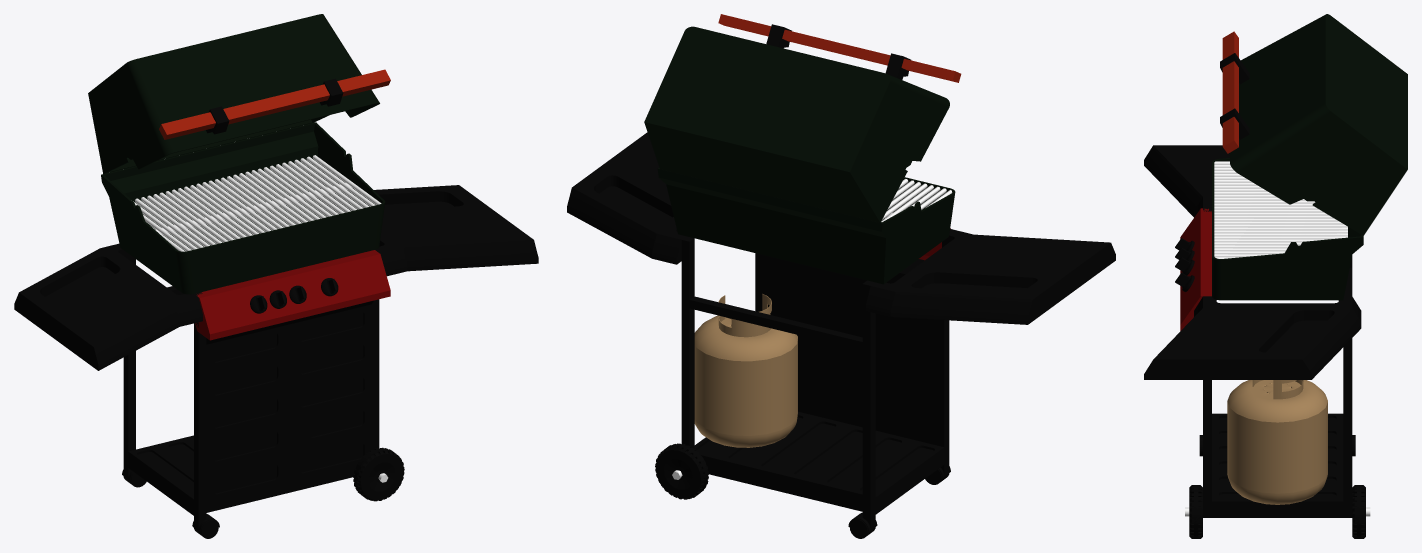
The model's file is barbacoa.FBX.
3 views of the same model, side by side, from view 1: azimuth 30°, elevation 25°; view 2: azimuth 150°, elevation 25°; view 3: azimuth 270°, elevation 25° (orthographic). The views are drawn at different scales.
Visible parts, largest first — view 1: base, Lid, Lid Bottom, shelf left, Grill, shelf rght, CNTRL PNL, BigWheel, knobs, caster3; view 2: Lid, base, Lid Bottom, shelf left, gas tank, shelf rght, BigWheel, Grill, caster3; view 3: Lid, shelf rght, gas tank, base, Lid Bottom, Grill, shelf left, CNTRL PNL, BigWheel, knobs.
Boxes of the visible parts, box(x1,y1,x2,y2) form: base: box(123, 255, 379, 519); Lid: box(88, 14, 390, 173); Lid Bottom: box(101, 122, 385, 294); shelf left: box(14, 243, 202, 370); Grill: box(133, 155, 381, 251); shelf rght: box(374, 185, 538, 276); CNTRL PNL: box(195, 250, 390, 340); BigWheel: box(353, 447, 404, 501); knobs: box(250, 278, 338, 313); caster3: box(122, 465, 219, 538); Lid: box(644, 14, 961, 222); base: box(681, 236, 949, 518); Lid Bottom: box(657, 168, 955, 284); shelf left: box(866, 229, 1115, 324); gas tank: box(694, 294, 797, 447); shelf rght: box(567, 132, 685, 264); BigWheel: box(655, 443, 708, 499); Grill: box(881, 179, 952, 221); caster3: box(848, 461, 950, 538); Lid: box(1220, 14, 1407, 235); shelf rght: box(1144, 296, 1361, 379); gas tank: box(1227, 380, 1327, 504); base: box(1203, 208, 1352, 517); Lid Bottom: box(1212, 157, 1363, 300); Grill: box(1214, 161, 1347, 258); shelf left: box(1144, 145, 1229, 217); CNTRL PNL: box(1180, 208, 1211, 330); BigWheel: box(1189, 485, 1365, 538); knobs: box(1175, 238, 1194, 291).
Size of the model in its own units: 2845 by 2693 by 1480.
